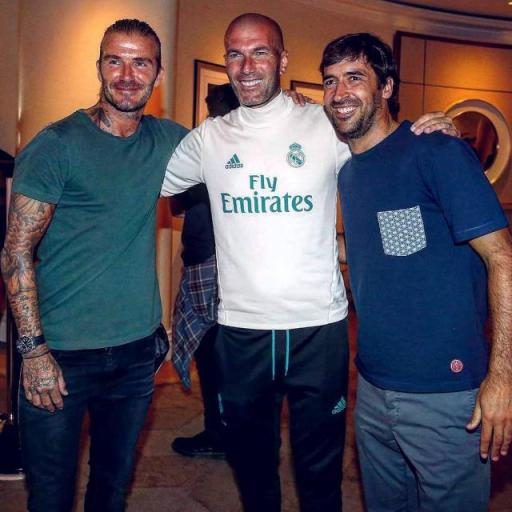Adidas: (224, 150, 244, 170)
Emirates: (218, 174, 314, 216)
